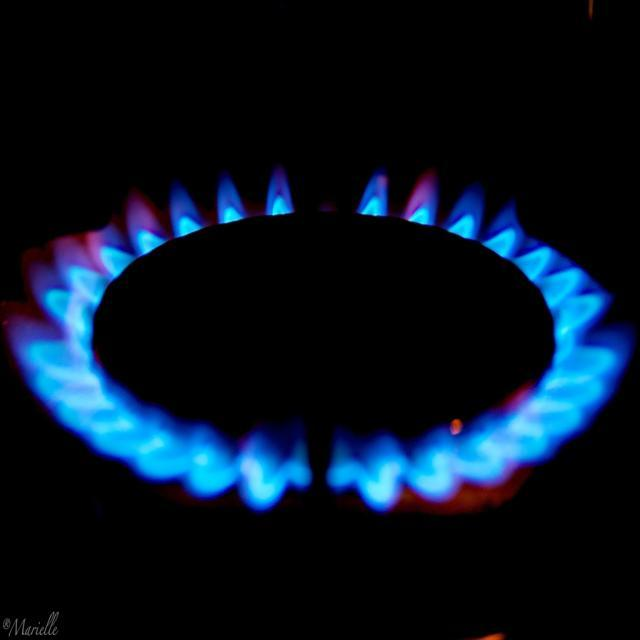Fire: (22, 244, 97, 408), (556, 261, 610, 422), (146, 420, 234, 490), (366, 436, 458, 502)
